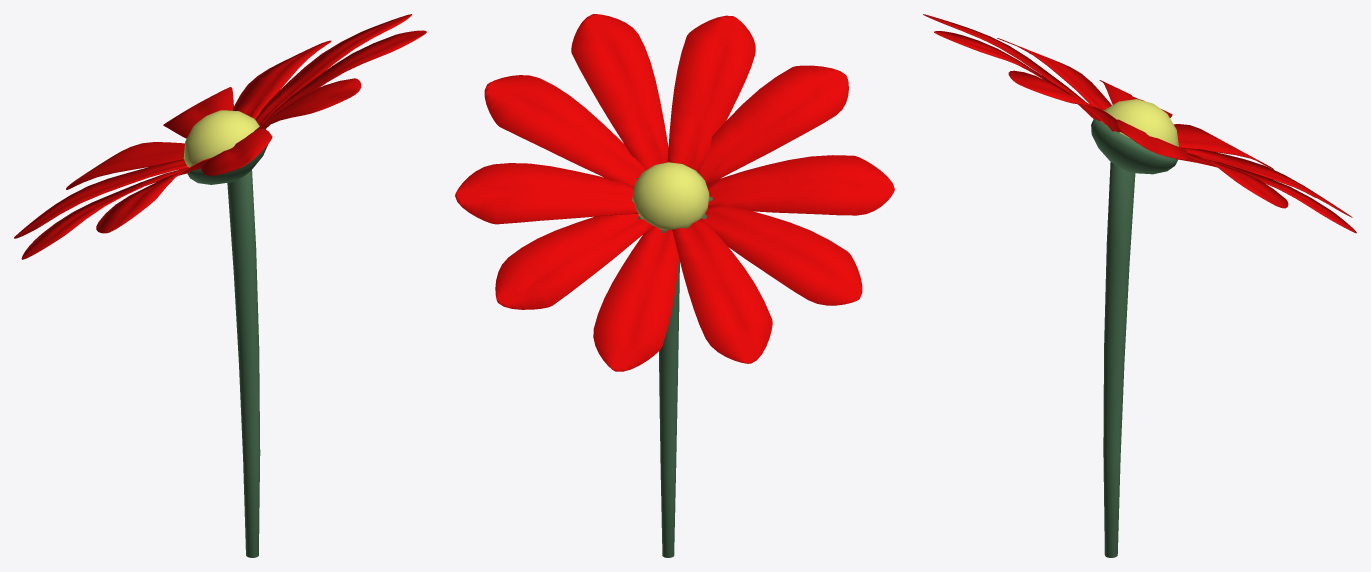
The model's file is marguerite.rouge.fbx.
The picture shows the model from 3 angles, left to right: view 1: azimuth 30°, elevation 25°; view 2: azimuth 150°, elevation 25°; view 3: azimuth 270°, elevation 25°; orthographic projection. The views are drawn at different scales.
Visible parts, largest first — view 1: Stengel 01, Sphere03, Line27, Line30, Line29, Line21, Line22, Line23, Line26, Line24, Line25, Line28 (+1 smaller); view 2: Line22, Line24, Line26, Line25, Line27, Line21, Line23, Line30, Line29, Line28, Stengel 01, Sphere03; view 3: Stengel 01, Cylinder05, Sphere03, Line29, Line22, Line24, Line30, Line28, Line21, Line25, Line26, Line27.
Boxes of the visible parts, x1,y1,x2,y2 form: Stengel 01: [227, 170, 260, 557]; Sphere03: [183, 110, 259, 167]; Line27: [255, 14, 411, 126]; Line30: [14, 159, 188, 238]; Line29: [66, 142, 184, 189]; Line21: [232, 40, 331, 119]; Line22: [262, 30, 426, 128]; Line23: [21, 168, 189, 259]; Line26: [247, 78, 361, 136]; Line24: [96, 157, 212, 233]; Line25: [201, 128, 272, 175]; Line28: [163, 87, 233, 138]; Line22: [571, 14, 668, 169]; Line24: [706, 155, 894, 215]; Line26: [667, 15, 755, 172]; Line25: [698, 65, 848, 183]; Line27: [484, 75, 646, 185]; Line21: [455, 163, 638, 224]; Line23: [702, 205, 862, 305]; Line30: [672, 218, 772, 363]; Line29: [593, 226, 678, 371]; Line28: [495, 214, 653, 309]; Stengel 01: [659, 258, 679, 557]; Sphere03: [632, 162, 709, 230]; Stengel 01: [1103, 162, 1135, 557]; Cylinder05: [1091, 119, 1177, 174]; Sphere03: [1100, 99, 1178, 146]; Line29: [1182, 148, 1352, 217]; Line22: [1008, 70, 1127, 136]; Line24: [997, 38, 1111, 110]; Line30: [1173, 124, 1273, 169]; Line28: [1176, 157, 1356, 233]; Line21: [1188, 153, 1288, 208]; Line25: [923, 14, 1093, 118]; Line26: [934, 31, 1100, 120]; Line27: [1117, 119, 1188, 159].
Bounding box in the file's own units: 89.53 × 113 × 82.88.
